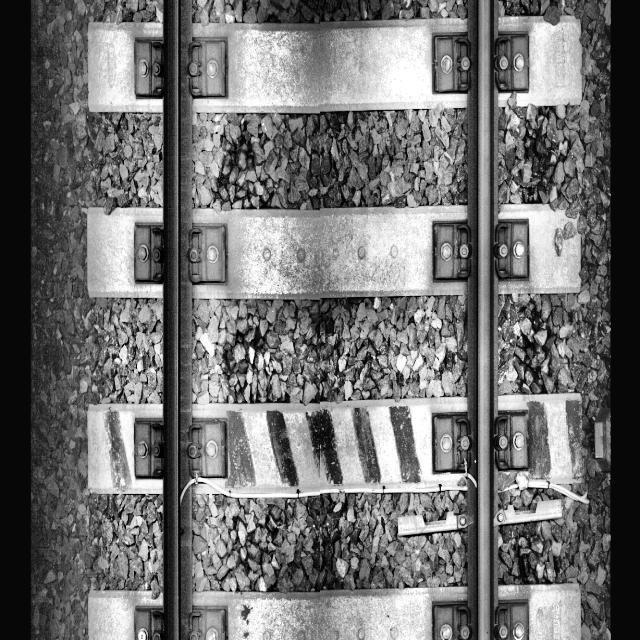Clips: (429, 408, 474, 480), (183, 413, 230, 481), (186, 216, 228, 286), (190, 34, 231, 102), (430, 220, 474, 283), (492, 215, 532, 283), (132, 414, 170, 484), (430, 32, 472, 94), (132, 217, 168, 285), (132, 32, 168, 99), (492, 34, 529, 94), (494, 413, 530, 468), (429, 600, 474, 640), (491, 597, 531, 640), (190, 604, 230, 640), (133, 599, 167, 640), (112, 639, 114, 640)
Sleepers: (86, 18, 585, 116), (86, 206, 586, 298), (86, 401, 592, 489), (87, 584, 582, 640)
